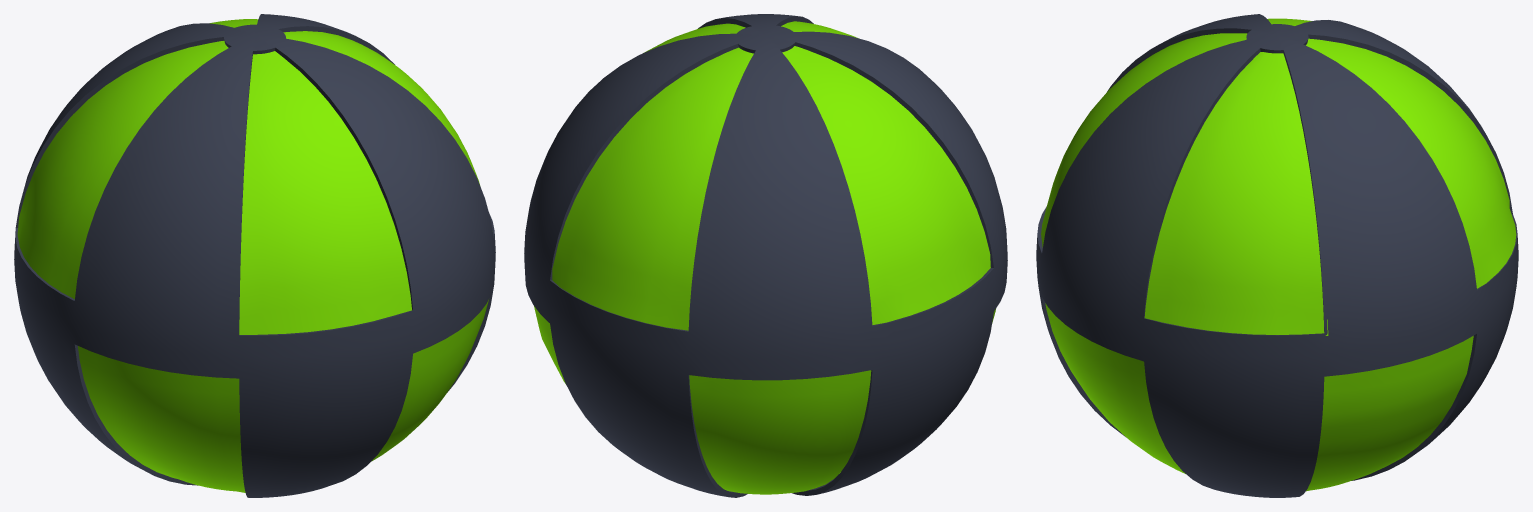
File: Ball1.fbx
The picture shows the model from 3 angles, left to right: view 1: azimuth 30°, elevation 25°; view 2: azimuth 150°, elevation 25°; view 3: azimuth 270°, elevation 25°; orthographic projection.
Visible parts, largest first — view 1: Sphere, Sphere.001; view 2: Sphere, Sphere.001; view 3: Sphere, Sphere.001.
Boxes of the visible parts, box(x1,y1,x2,y2) form: Sphere: box(14, 14, 495, 497); Sphere.001: box(17, 19, 488, 492); Sphere: box(524, 14, 1007, 497); Sphere.001: box(534, 21, 995, 494); Sphere: box(1036, 14, 1518, 497); Sphere.001: box(1041, 18, 1516, 491).
Size of the model in its own units: 64.77 by 65.45 by 64.77.
